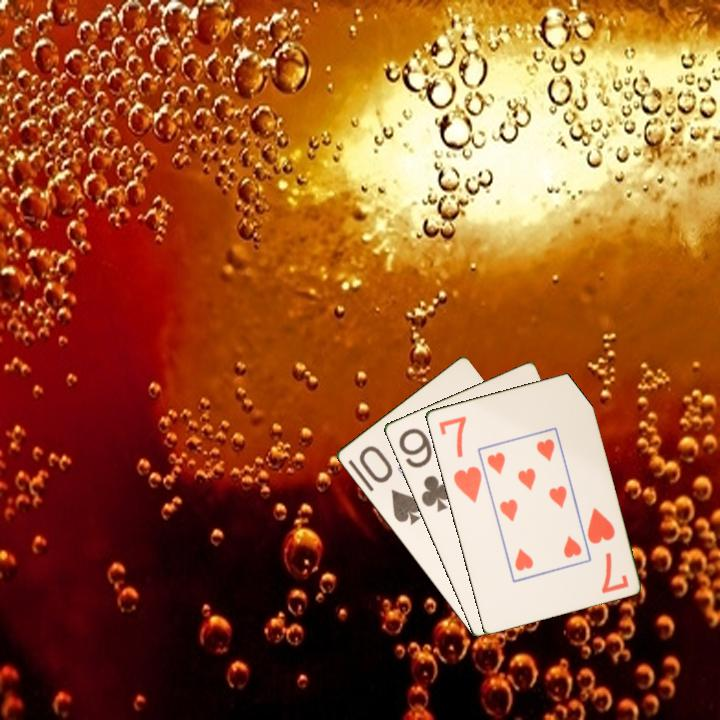10s: (355, 442, 423, 528)
7h: (435, 412, 484, 506), (583, 504, 631, 596)
9c: (395, 424, 455, 515)
